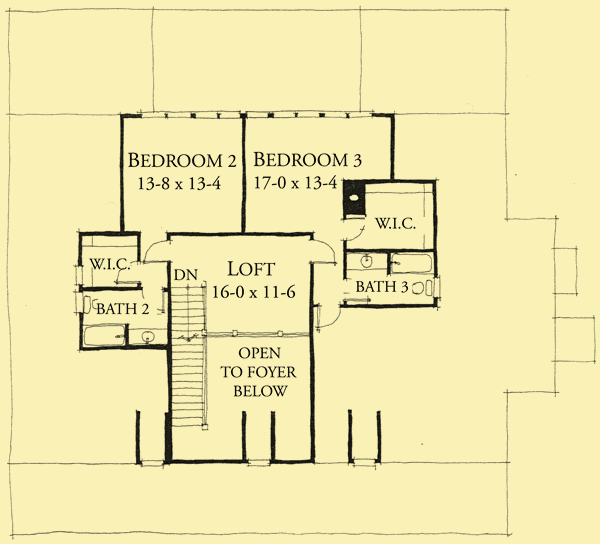door: (307, 236, 338, 271), (340, 212, 372, 244), (315, 300, 346, 333), (136, 283, 167, 316), (141, 238, 173, 267), (113, 258, 144, 286)
large sink: (409, 278, 433, 300)
small sink: (345, 252, 388, 277), (127, 327, 171, 351)
stairs: (164, 265, 213, 435)
tub: (387, 248, 437, 277), (82, 324, 131, 352)
windows: (242, 108, 378, 120), (133, 109, 243, 121), (344, 455, 381, 471), (134, 456, 174, 470), (243, 455, 275, 471)
